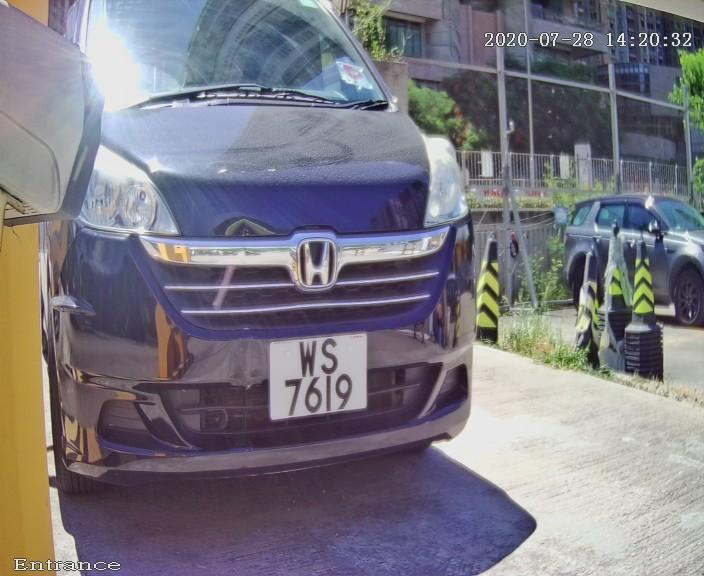privatecar: (7, 13, 532, 541)
